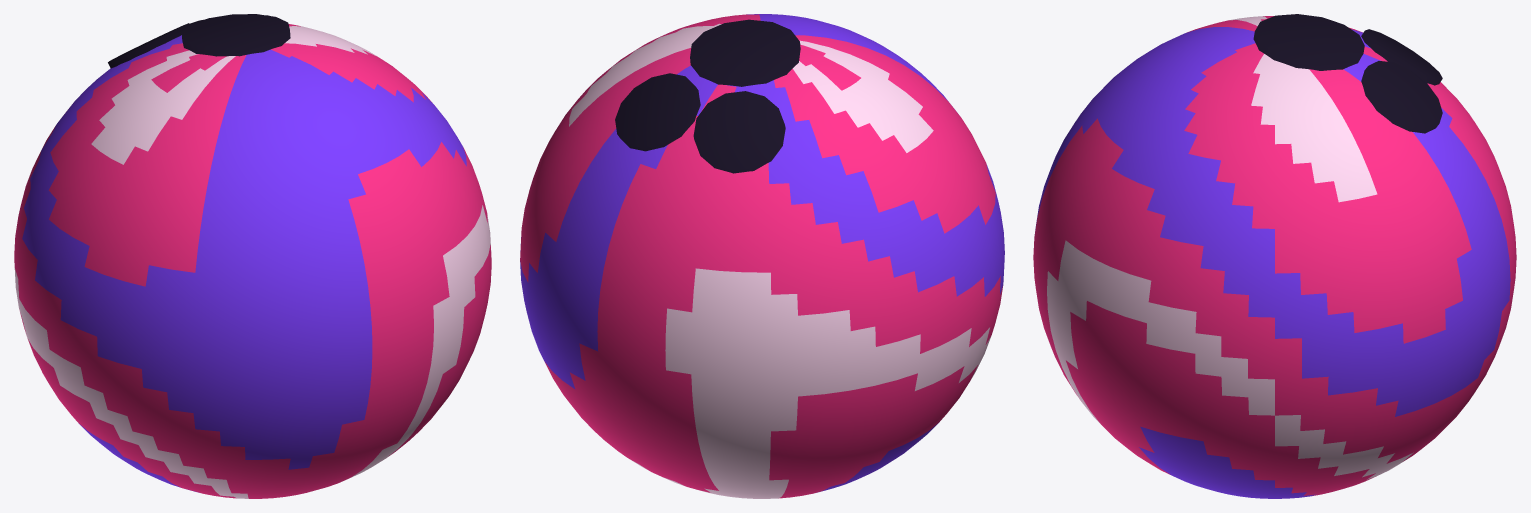
Rendered from strike_zone_ball.glb.
3 views of the same model, side by side, from view 1: azimuth 30°, elevation 25°; view 2: azimuth 150°, elevation 25°; view 3: azimuth 270°, elevation 25° (orthographic).
Parts seen in each view (by area): view 1: Ball; view 2: Ball; view 3: Ball.
Boxes of the visible parts, left/top/right/bottom form: Ball: left=14, top=14, right=491, bottom=498; Ball: left=520, top=14, right=1004, bottom=498; Ball: left=1033, top=14, right=1516, bottom=498.
Bounding box in the file's own units: 0.5 × 0.5081 × 0.5.
